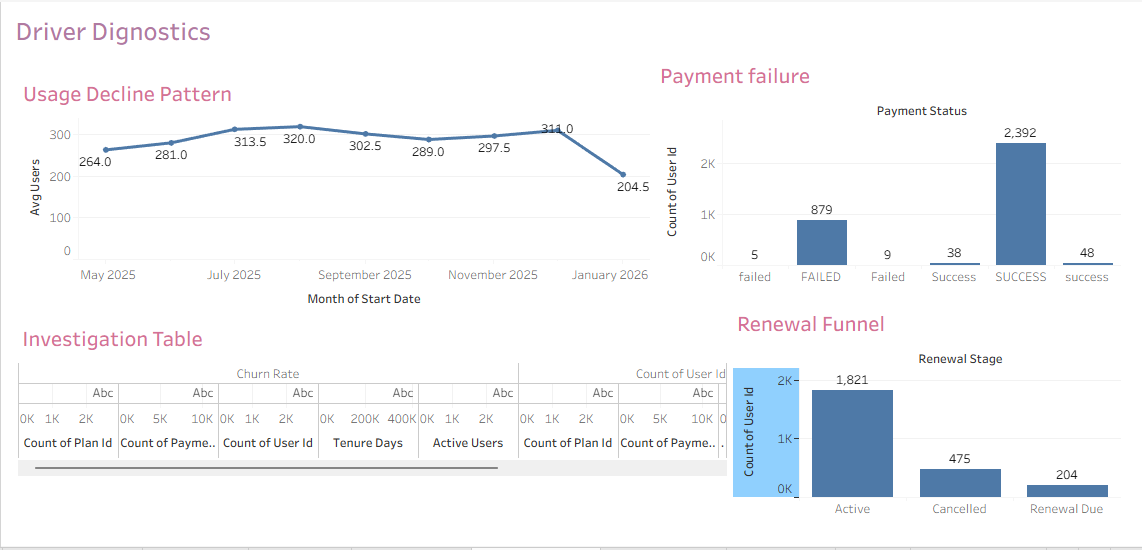

What the dashboard file says about the page in this screenshot:
{"tool":"tableau","page":{"name":"Driver Dignostics","canvas":[1000,1000],"units":"permille","ordinal":1},"visuals":[{"type":"title","box":[7,14.7,986,75.4]},{"type":"worksheet","title":"Payment Failure","mark":"Automatic","rows":["user_id"],"cols":["payment_status"],"box":[574.1,101.1,407.5,421]},{"type":"worksheet","title":"Usage Decline Pattern","mark":"Automatic","rows":["Calculation_774056233018494987"],"cols":["start_date"],"box":[15.8,134.2,553,439.3]},{"type":"worksheet","title":"Renewal Funnel","mark":"Automatic","rows":["user_id"],"cols":["Calculation_774056233019842572"],"box":[641.5,557,340.1,426.5]},{"type":"worksheet","title":"Investigation table","mark":"Text","cols":["plan_id","payment_status","user_id","tenure_days","Calculation_774056233001889795"],"box":[14.9,584.6,621.4,404.4]}]}

Visuals, with their boxes on the dashboard's canvas, which has no fixed pixel size, in thousandths of its width and height (x1, y1, x2, y2). These are canvas units, not pixel positions in the 1142x550 screenshot, which may show the page scaled, cropped or inside an application window:
title: 7,15,993,90
"Payment Failure" worksheet: 574,101,982,522
"Usage Decline Pattern" worksheet: 16,134,569,574
"Renewal Funnel" worksheet: 642,557,982,984
"Investigation table" worksheet (Text marks): 15,585,636,989
